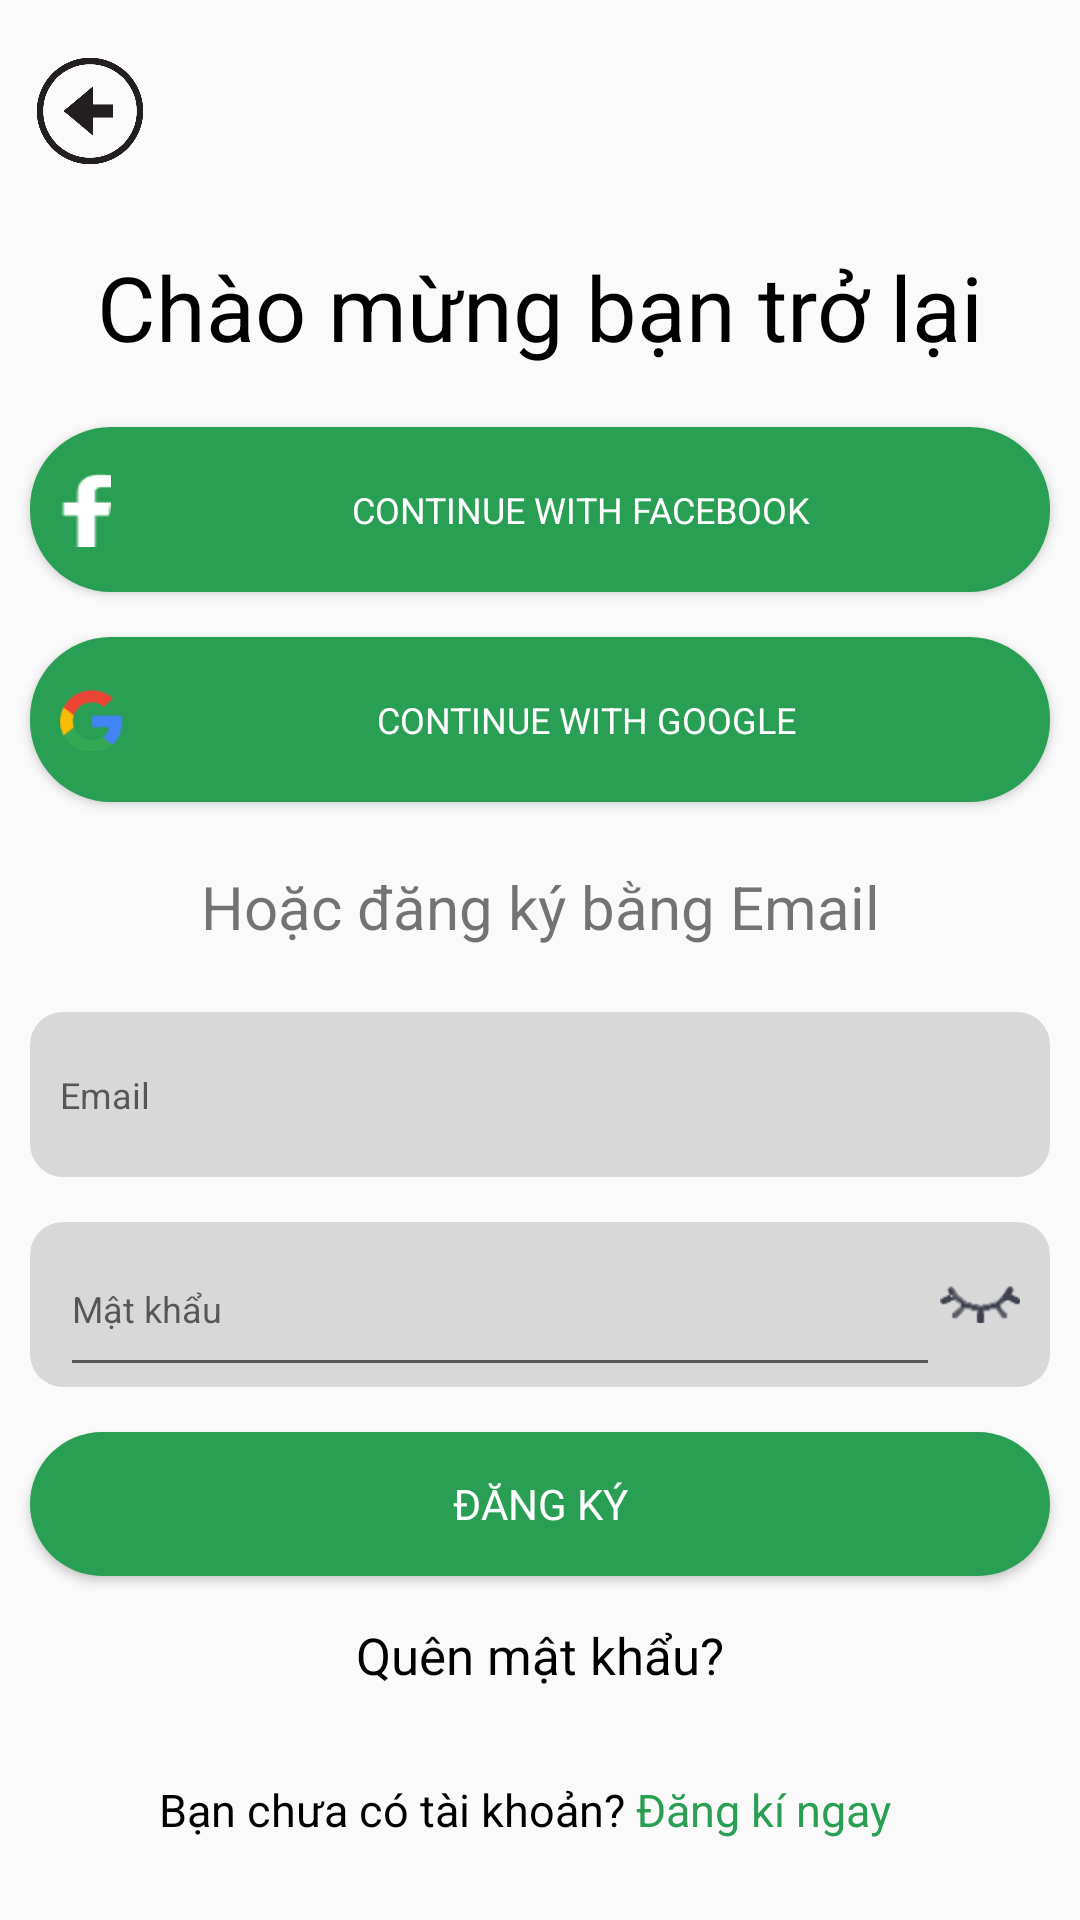

Named icons in this screenshot (1080px×1920px) and their bounding boxes, BBox(x1, y1, x2, y2):
arrow left: BBox(37, 58, 143, 164)
eyes: BBox(940, 1286, 1020, 1323)
